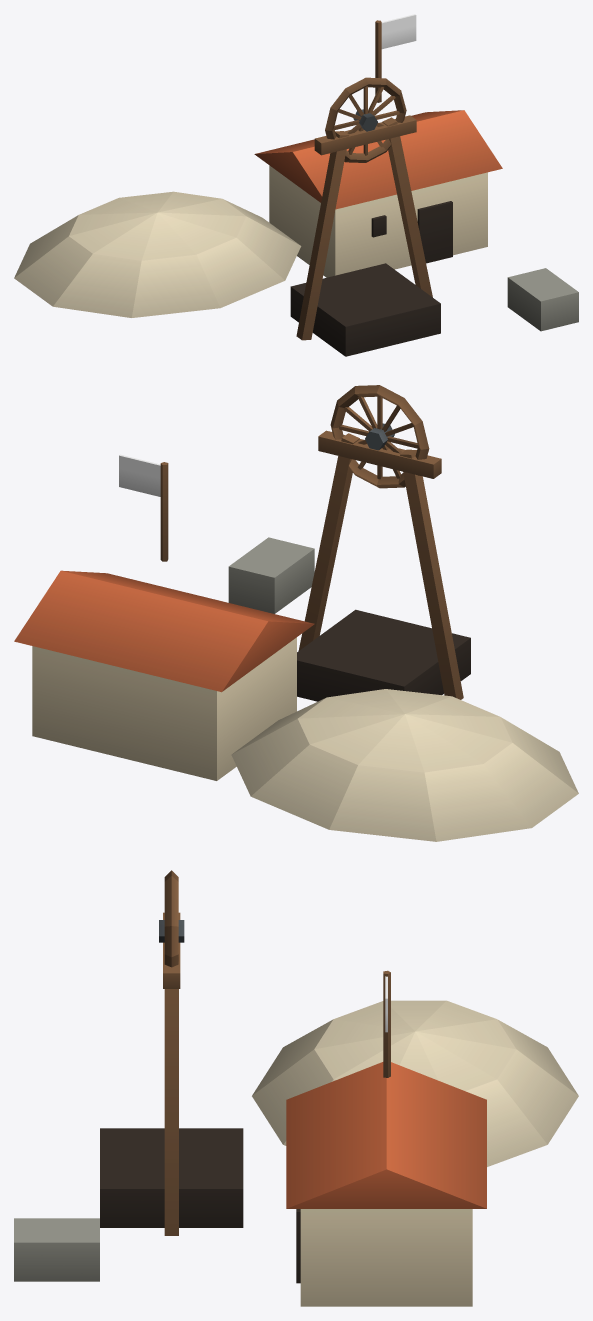
The model's file is MINE_ME.glb.
The picture shows the model from 3 angles, top to bottom: view 1: azimuth 30°, elevation 25°; view 2: azimuth 150°, elevation 25°; view 3: azimuth 270°, elevation 25°; orthographic projection. The views are drawn at different scales.
Visible parts, largest first — view 1: Body, Wheel_head, Flag; view 2: Body, Wheel_head, Flag; view 3: Body, Wheel_head.
Part boxes in pixels (bbox=[...]): Body: bbox=[14, 20, 578, 356]; Wheel_head: bbox=[325, 77, 406, 162]; Flag: bbox=[381, 14, 416, 49]; Body: bbox=[14, 430, 578, 841]; Wheel_head: bbox=[330, 385, 429, 488]; Flag: bbox=[119, 454, 160, 496]; Body: bbox=[14, 912, 578, 1306]; Wheel_head: bbox=[159, 870, 184, 967].
Bounding box in the file's own units: 4.4 × 2.48 × 3.94.
Materials: 1 (1 with a texture image).
